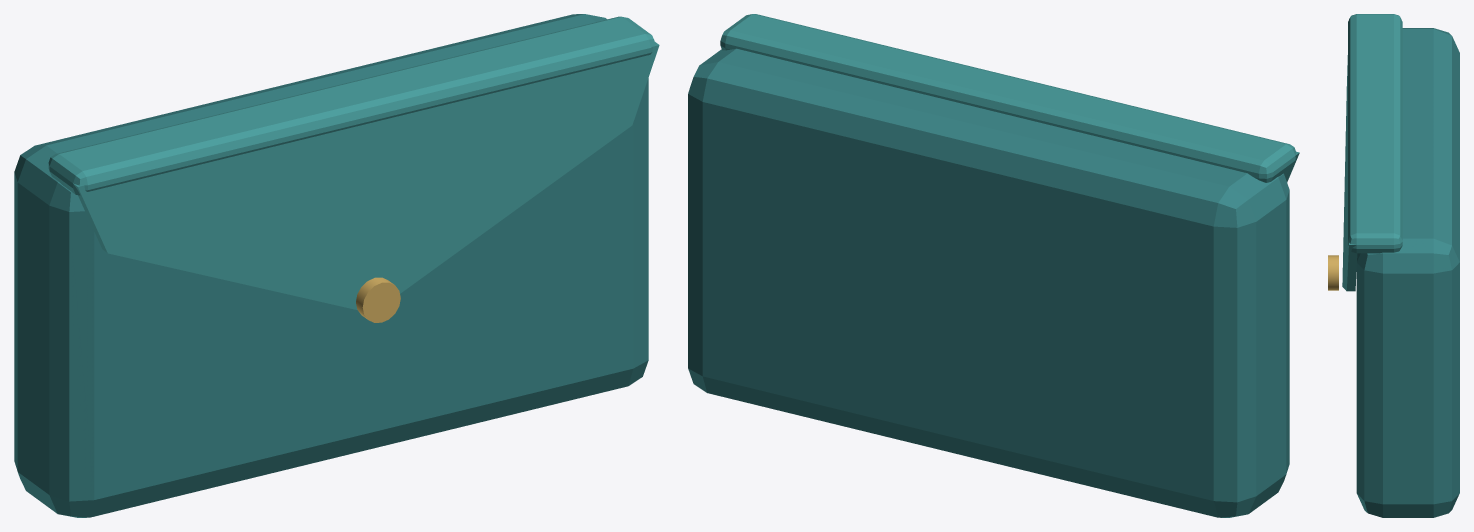
Rendered from purse_small_clutch.glb.
3 renders of one model, left to right at view 1: azimuth 30°, elevation 25°; view 2: azimuth 150°, elevation 25°; view 3: azimuth 270°, elevation 25°, orthographic. The views are drawn at different scales.
Parts seen in each view (by area): view 1: Clutch_Closed_Slim_Body, Clutch_Envelope_Flap, Clutch_Folded_Top_Edge, Clutch_Round_Snap; view 2: Clutch_Closed_Slim_Body, Clutch_Folded_Top_Edge; view 3: Clutch_Closed_Slim_Body, Clutch_Folded_Top_Edge, Clutch_Envelope_Flap, Clutch_Round_Snap.
Boxes of the visible parts, bbox=[...] form: Clutch_Closed_Slim_Body: bbox=[14, 14, 648, 517]; Clutch_Envelope_Flap: bbox=[73, 42, 659, 309]; Clutch_Folded_Top_Edge: bbox=[48, 16, 655, 195]; Clutch_Round_Snap: bbox=[356, 277, 400, 322]; Clutch_Closed_Slim_Body: bbox=[688, 48, 1289, 517]; Clutch_Folded_Top_Edge: bbox=[720, 14, 1296, 182]; Clutch_Closed_Slim_Body: bbox=[1356, 28, 1459, 517]; Clutch_Folded_Top_Edge: bbox=[1348, 14, 1402, 253]; Clutch_Envelope_Flap: bbox=[1342, 55, 1357, 291]; Clutch_Round_Snap: bbox=[1328, 255, 1338, 290].
Size of the model in its own units: 0.25 by 0.145 by 0.06.
